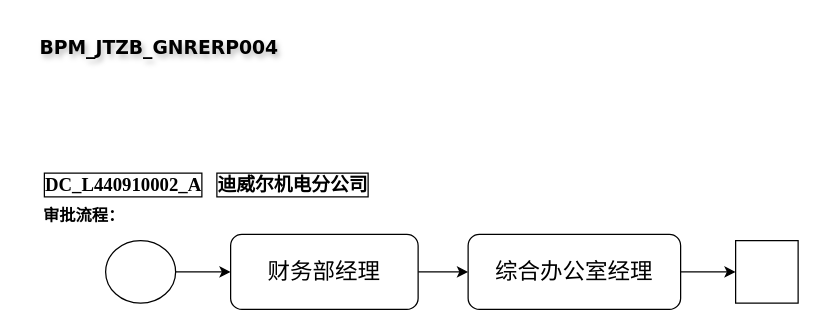
Some shapes in this 820 by 331 pixel diagram are drawn without their labels. Each missing label, with the centre of its shape:
"开始" goes at [140,271].
"结束" goes at [766,271].
